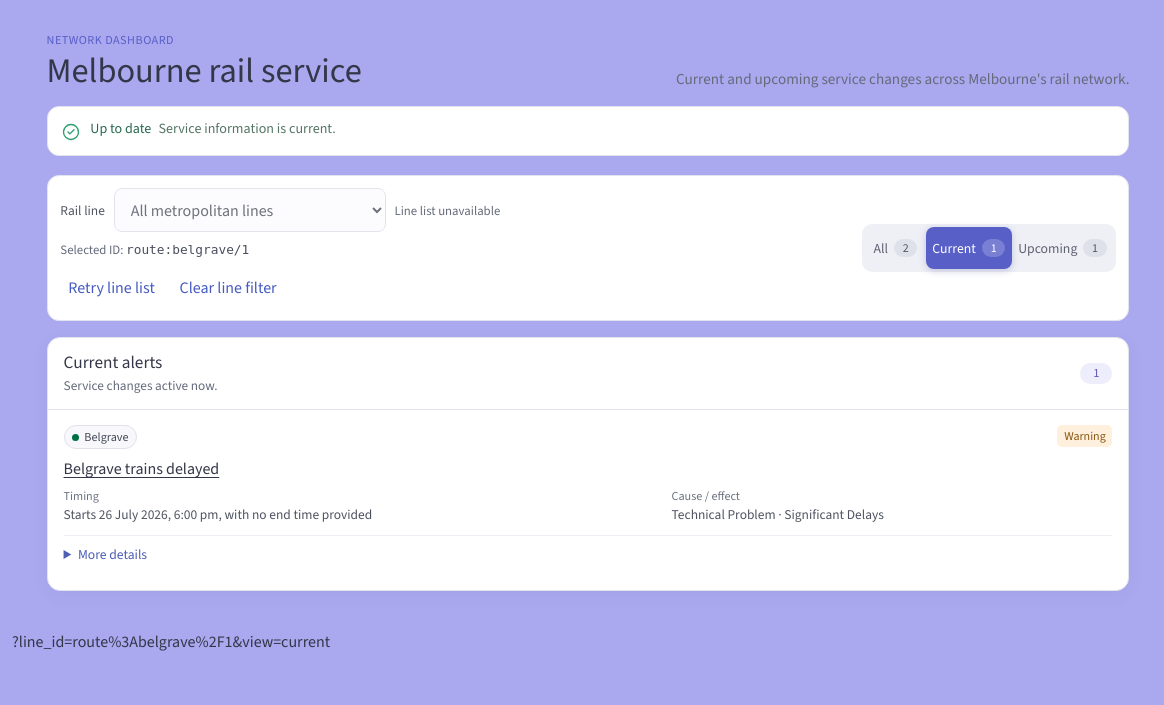
Scenario: Dashboard › retains a bookmarked line filter when the line list fails and allows clearing it
Expected: the text "route:belgrave/1" is shown, [126,242,249,257]
Expected: the heading "Whole network" is not shown
Click the button "Clear line filter" at (228, 287), box [172,267,285,307]
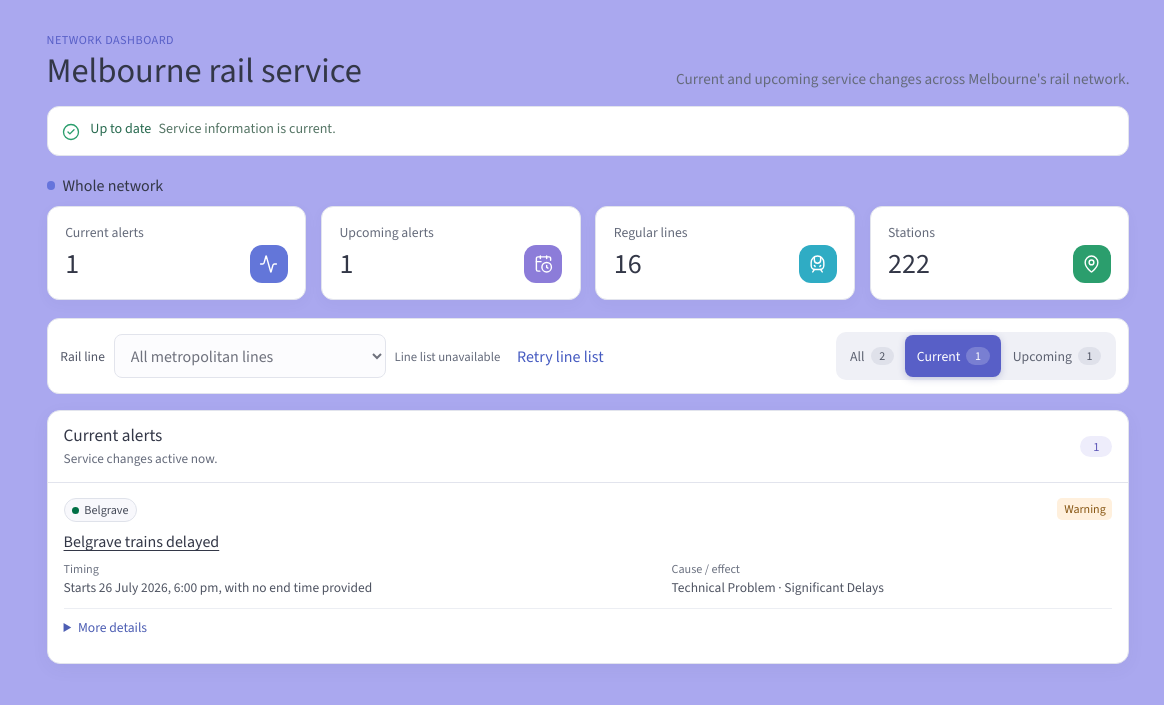
Now the heading "Whole network" is shown, box [46,175,163,196]
